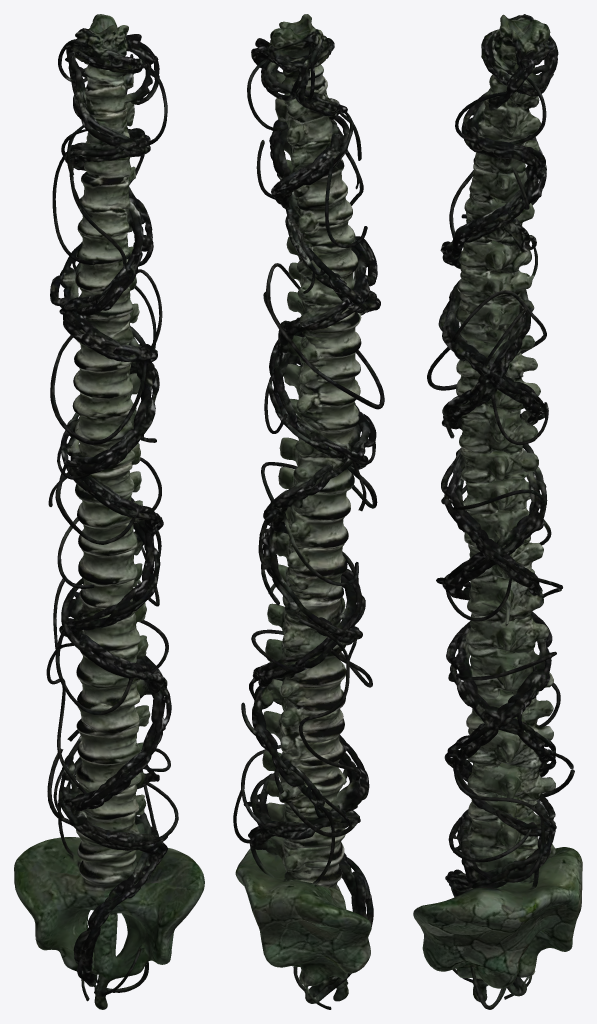
The model's file is spine.min.glb.
3 renders of one model, left to right at view 1: azimuth 30°, elevation 25°; view 2: azimuth 150°, elevation 25°; view 3: azimuth 270°, elevation 25°, orthographic. The views are drawn at different scales.
Visible parts, largest first — view 1: tripo_node_a284b60c-024c-4648-8f81-7a53d1a2fc52; view 2: tripo_node_a284b60c-024c-4648-8f81-7a53d1a2fc52; view 3: tripo_node_a284b60c-024c-4648-8f81-7a53d1a2fc52.
Boxes of the visible parts, x1=… form: tripo_node_a284b60c-024c-4648-8f81-7a53d1a2fc52: x1=14, y1=14, x2=204, y2=1009; tripo_node_a284b60c-024c-4648-8f81-7a53d1a2fc52: x1=233, y1=14, x2=384, y2=1009; tripo_node_a284b60c-024c-4648-8f81-7a53d1a2fc52: x1=413, y1=14, x2=582, y2=1009.
Bounding box in the file's own units: 0.1518 × 0.9807 × 0.1512.
Materials: 1 (1 with a texture image).
